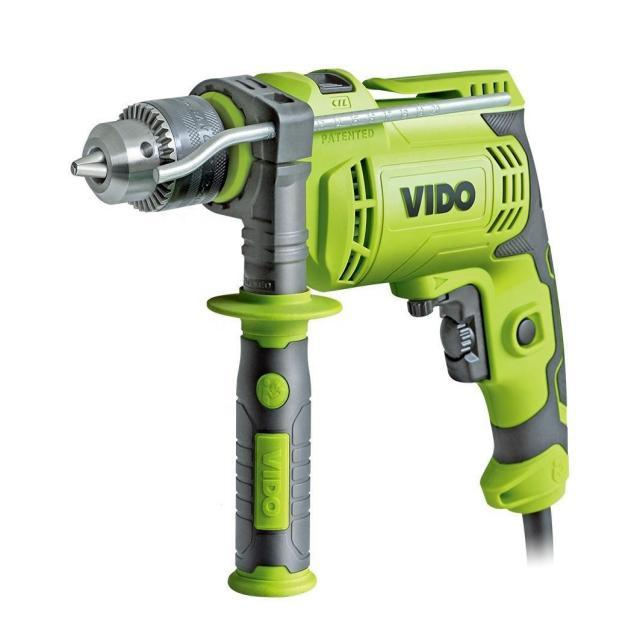drill: (71, 69, 570, 598)
